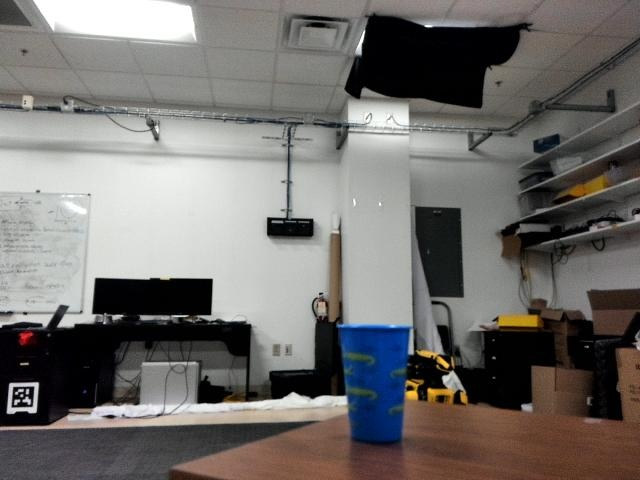water_cup: (324, 319, 421, 448)
